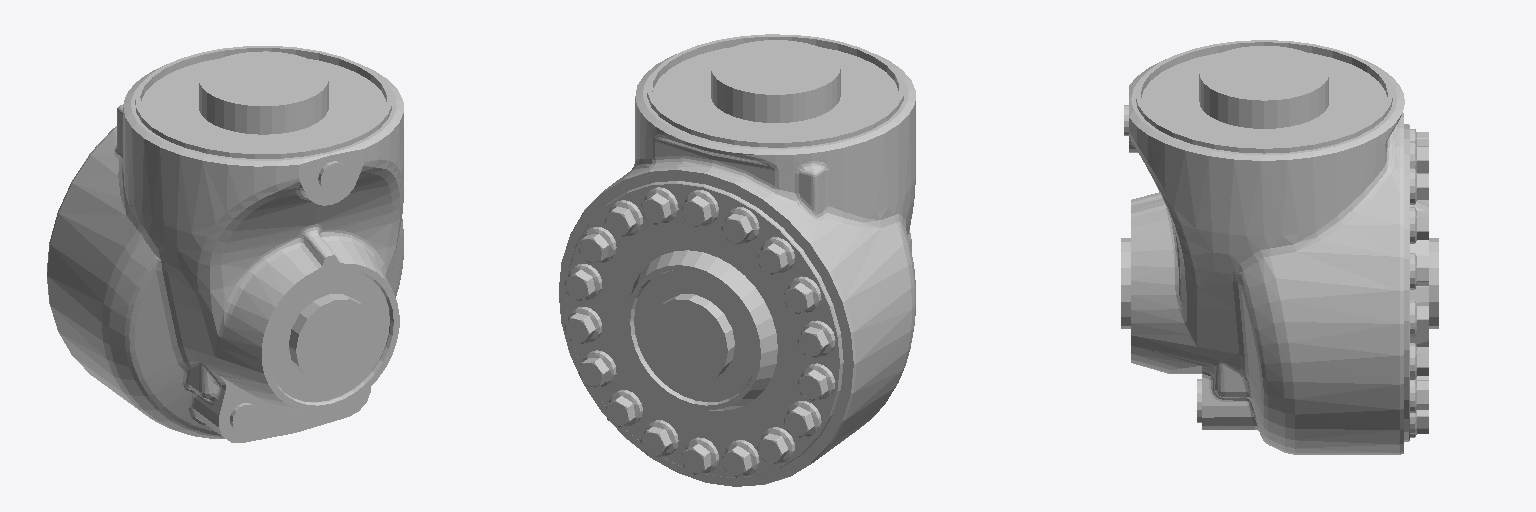
The model's file is geo-d53d01e1-5ad0-41a0-87b6-ec75478aec10.obj.
3 views of the same model, side by side, from view 1: azimuth 30°, elevation 25°; view 2: azimuth 150°, elevation 25°; view 3: azimuth 270°, elevation 25° (orthographic).
Parts seen in each view (by area): view 1: 1; view 2: 1; view 3: 1.
Boxes of the visible parts, x1=… form: 1: x1=47, y1=46, x2=403, y2=442; 1: x1=559, y1=34, x2=915, y2=486; 1: x1=1121, y1=40, x2=1438, y2=454.
Size of the model in its own units: 132 by 155 by 122.